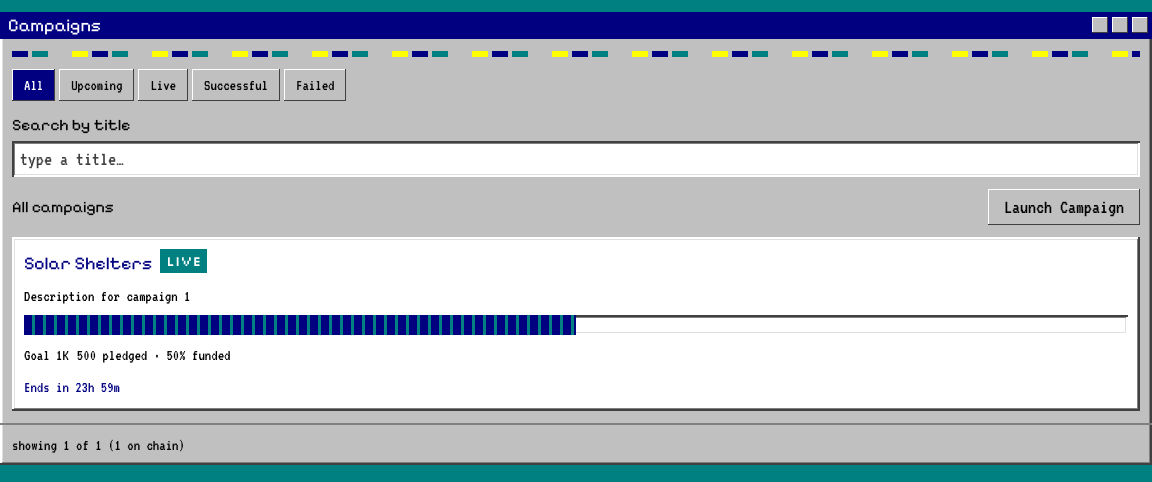
Scenario: CampaignListWindow data states › shows the empty-result state when search matches nothing
Type "zzz" into the search field with test id "search-input" at (576, 158), box [12, 140, 1140, 176]
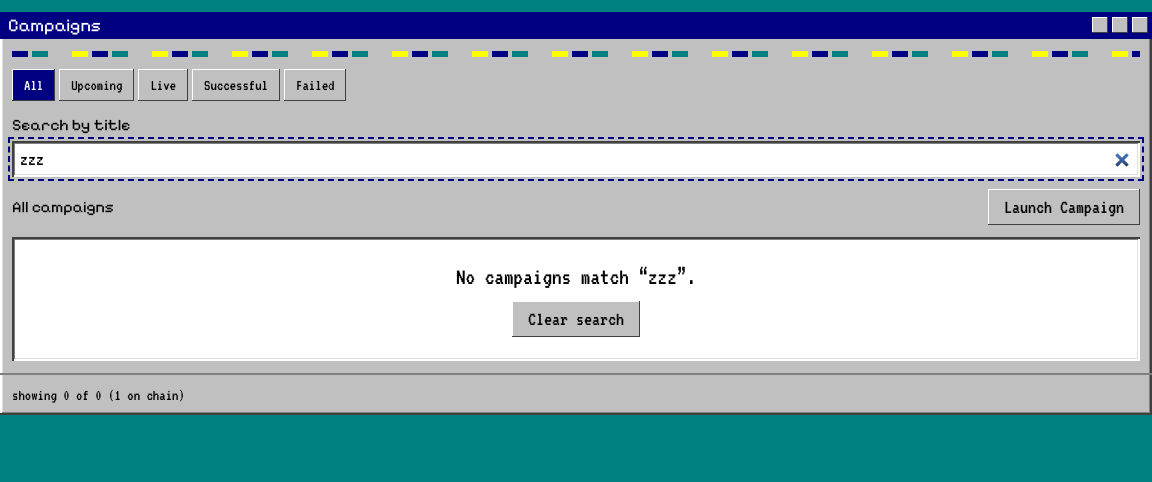
Expected: the text "No campaigns match “zzz”." is shown, [456, 260, 696, 292]
Expected: the button with test id "campaign-card" is gone
// clear search restores the result
Click the button with test id "clear-search" at (576, 318), box [512, 300, 640, 336]
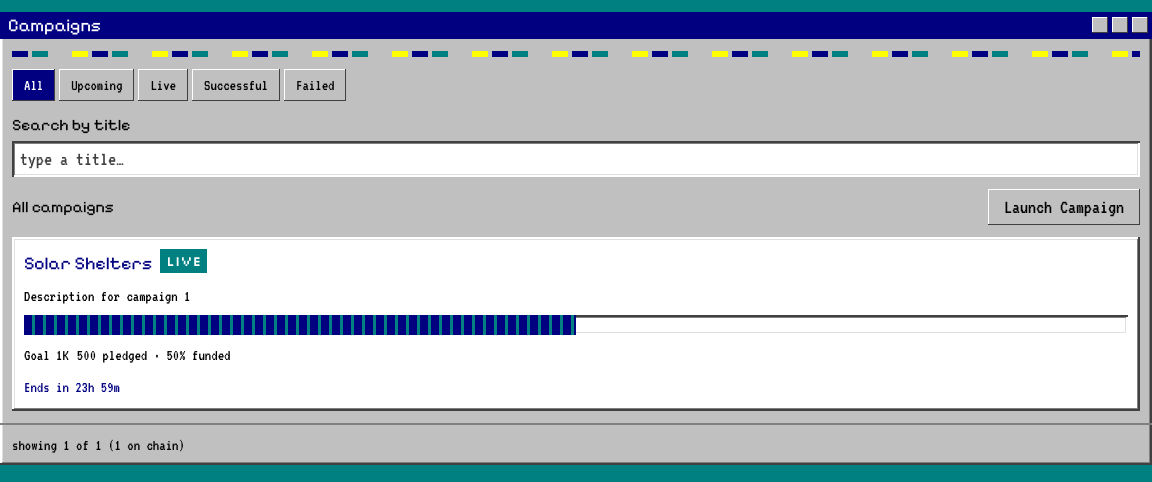
Expected: the button with test id "campaign-card" is shown, [12, 236, 1140, 410]
